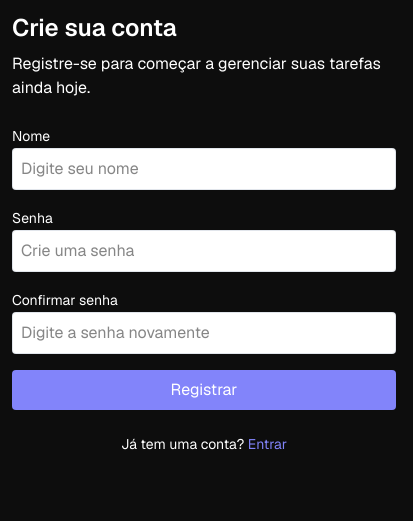
RegisterForm › Deve mostrar erro quando a API retornar erro
The image size is (413, 521).
In the field with placeholder "Digite seu nome": (204, 169) [12, 148, 396, 190], type "guilherme"
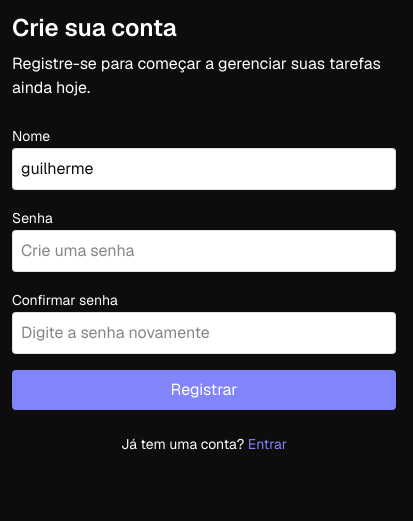
In the password field with placeholder "Crie uma senha": (204, 251) [12, 230, 396, 272], type "123456"
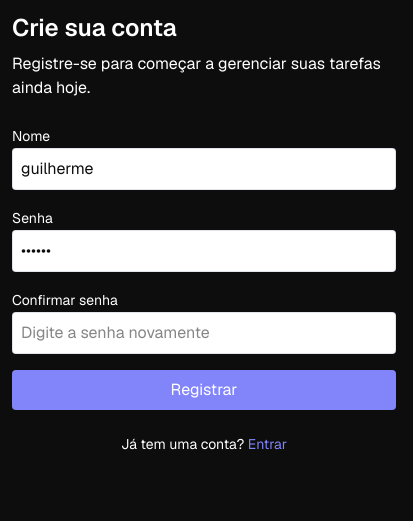
In the password field with placeholder "Digite a senha novamente": (204, 333) [12, 312, 396, 354], type "123456"
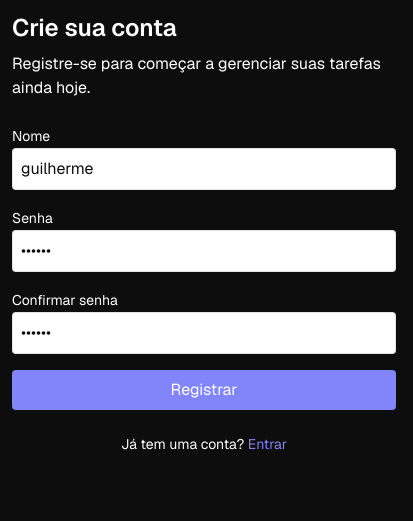
Click the button "Registrar": (204, 390) [12, 370, 396, 410]
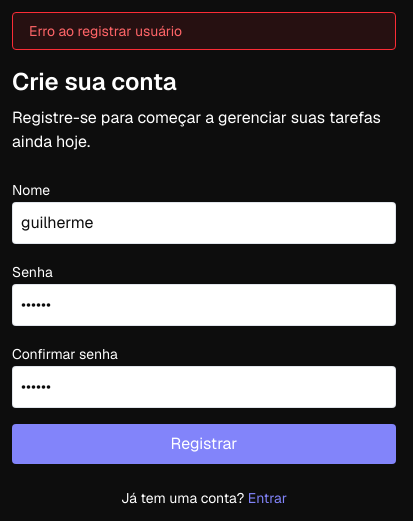
Check: the text "Erro ao registrar usuário" is shown, box [29, 22, 182, 40]
